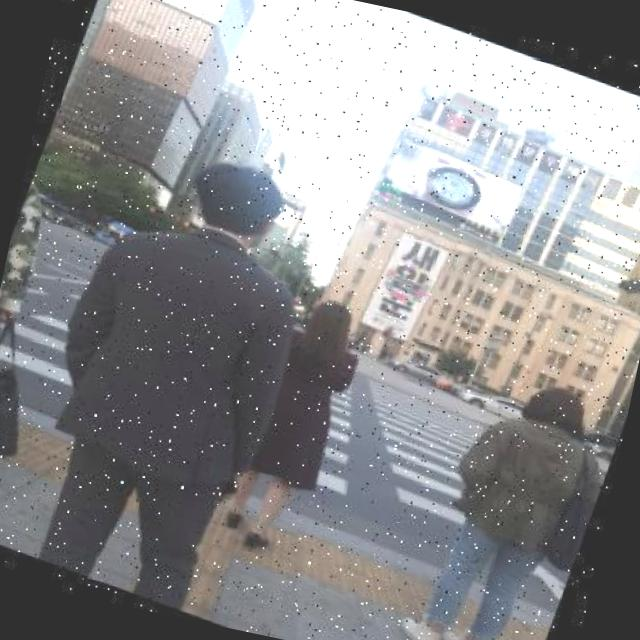Person: (0, 115, 352, 626), (397, 355, 631, 640), (213, 285, 373, 565)
